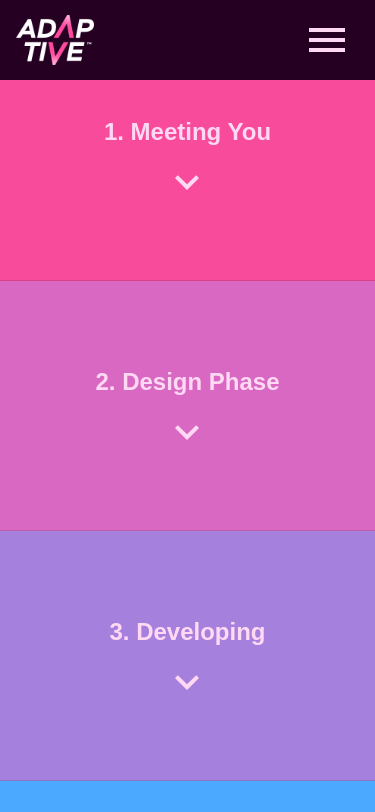
Test: Vistor can see our process › For iphone-x view, successfully › is expected to show our process section › is expected to show design phase
This screenshot has width=375, height=812.
(page scrolled)
Check: the heading with test id "heading" reads "2. Design Phase", box [95,368,279,395]
Click the button with test id "step-2" at (188, 406), box [80,356,296,456]
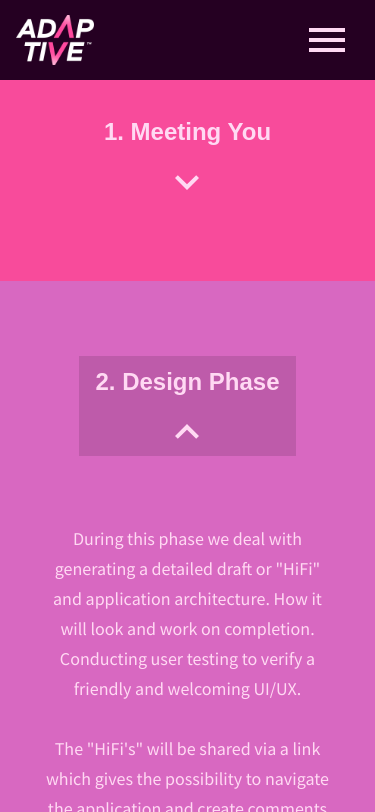
Check: the heading with test id "heading" reads "2. Design Phase", box [95,368,279,395]
Check: the text with test id "body-1" shows "During this phase we deal with generating a detailed draft or", box [42,464,333,704]
Check: the text with test id "body-2" shows "The", box [42,704,333,811]
